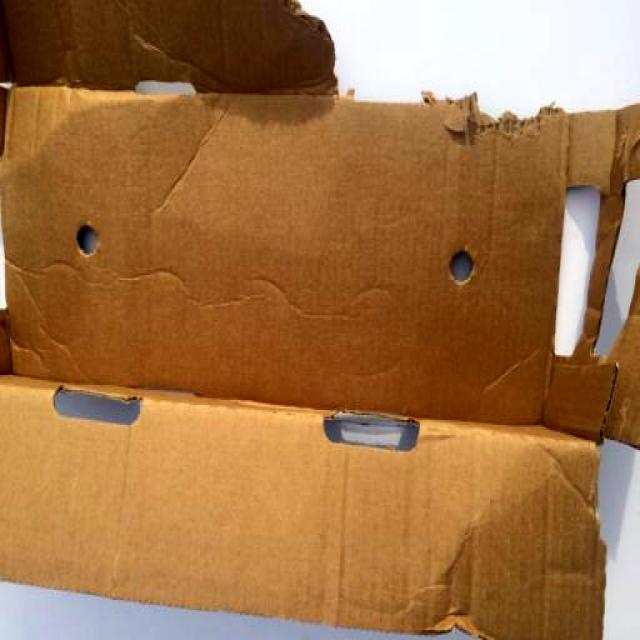Cardboard: (17, 97, 538, 586), (302, 1, 640, 114), (0, 584, 380, 640), (601, 442, 640, 639), (558, 188, 600, 351), (602, 182, 640, 349)
